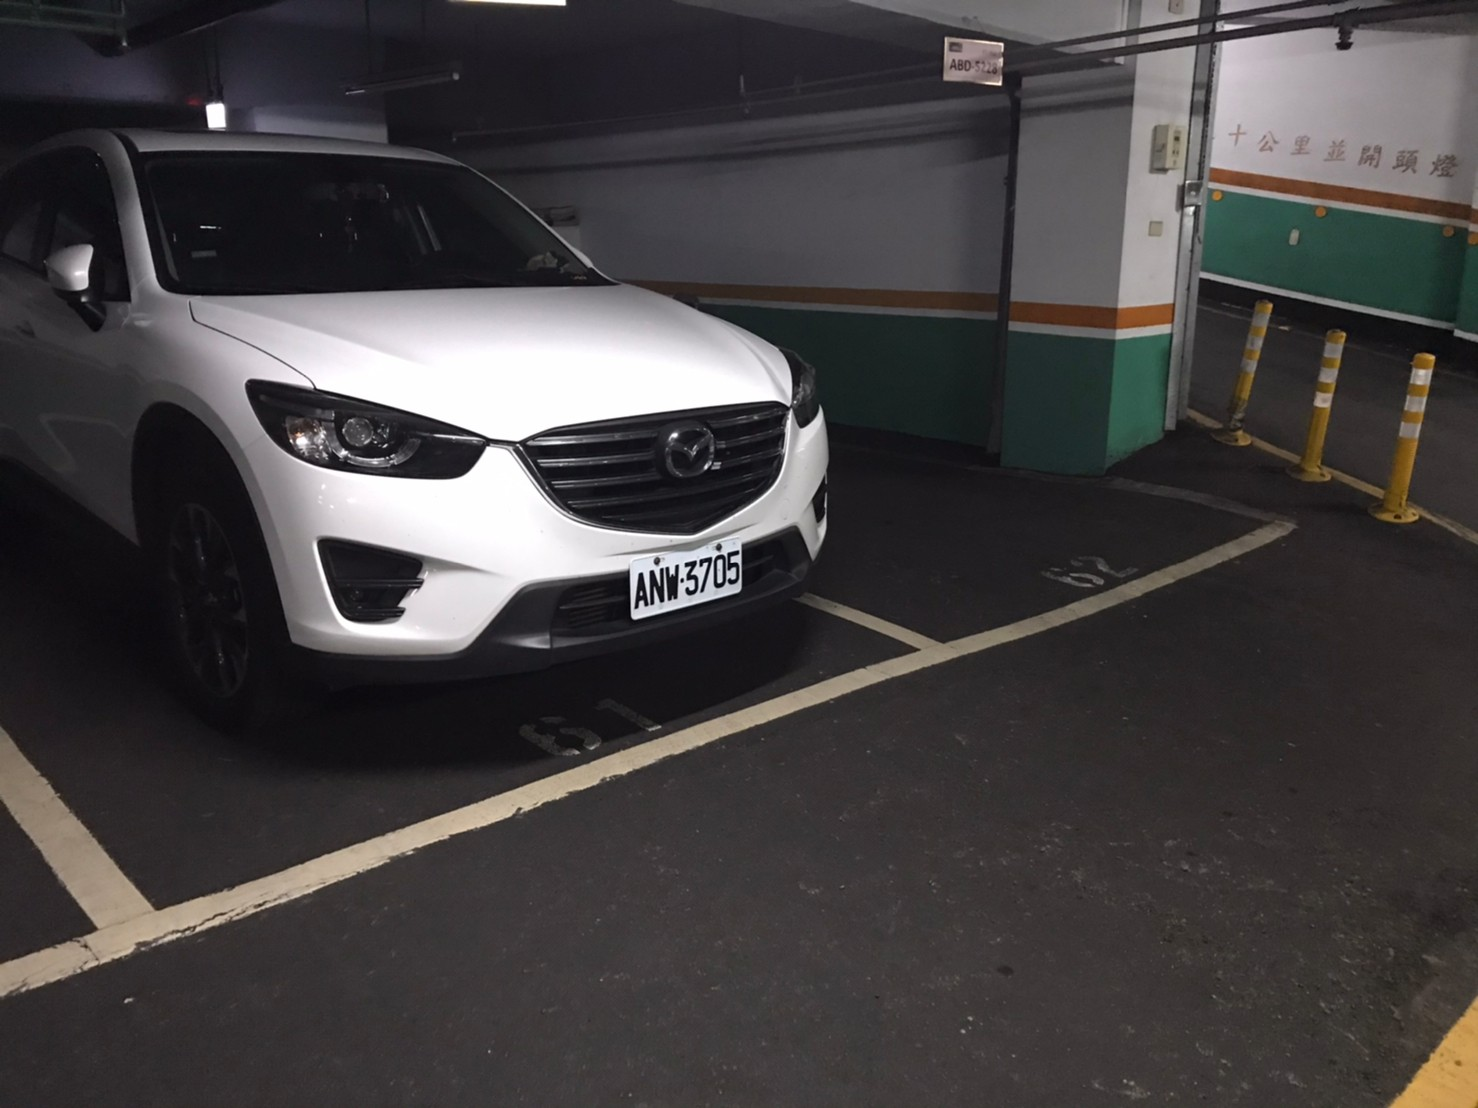LP: (621, 534, 742, 625)
